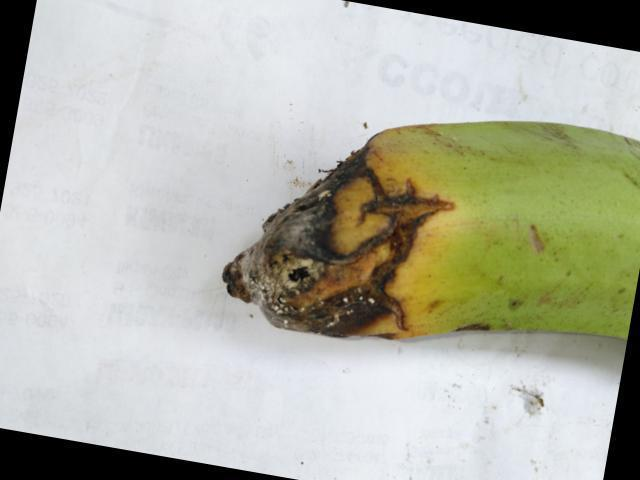rotten: (201, 95, 471, 370)
